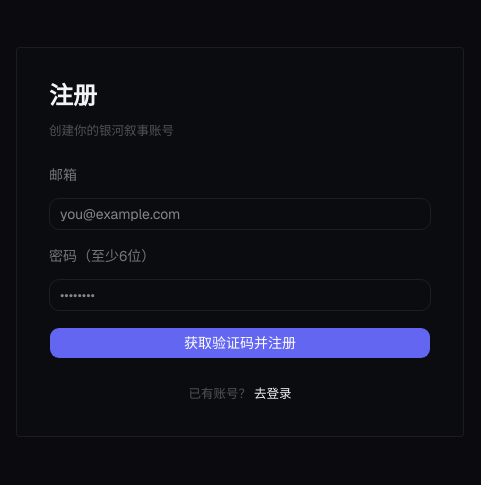
Test: RegisterPage 注册流程 state machine › handleSendCode already_registered 且 resend 失败(已确认用户):不切 step,中性文案
This screenshot has width=481, height=485.
Type "existing@example.com" into the field named "邮箱" at (240, 214), box [49, 198, 431, 230]
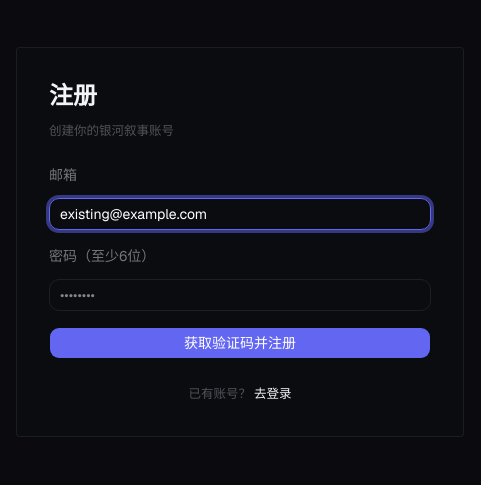
Type "password123" into the password field named "密码（至少6位）" at (240, 295), box [49, 279, 431, 311]
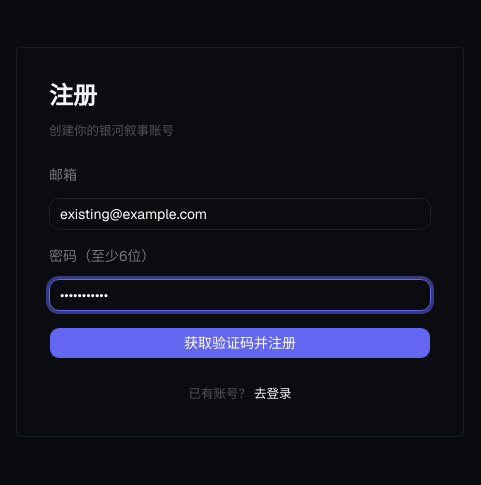
Click the button "获取验证码并注册" at (240, 343), box [49, 327, 431, 359]
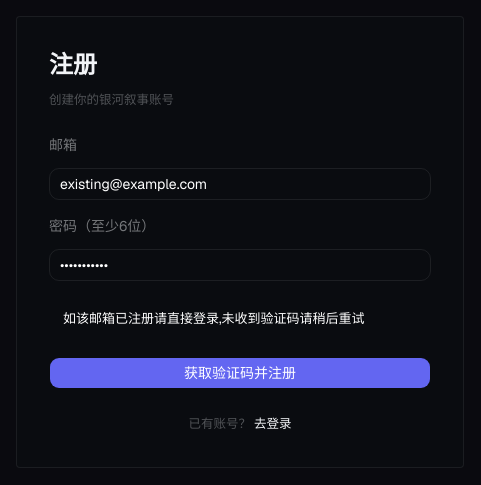
Check: the text "如该邮箱已注册请直接登录,未收到验证码请稍后重试" is shown, box [63, 310, 365, 327]
